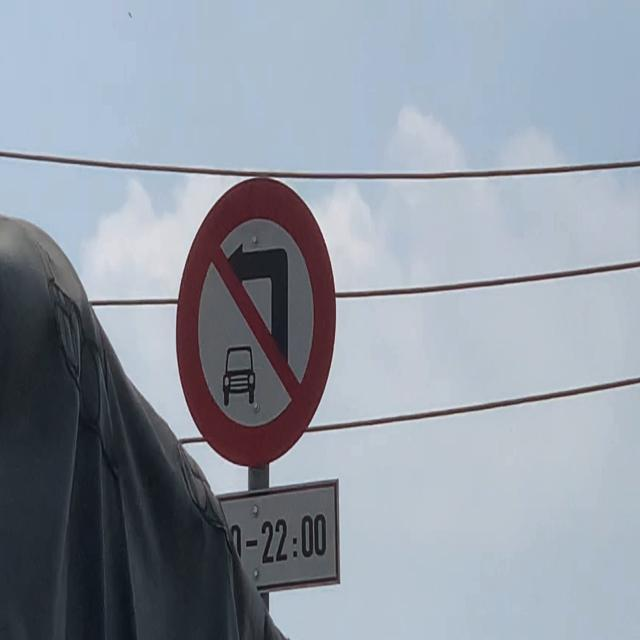Cam re trai: (176, 176, 337, 468)
